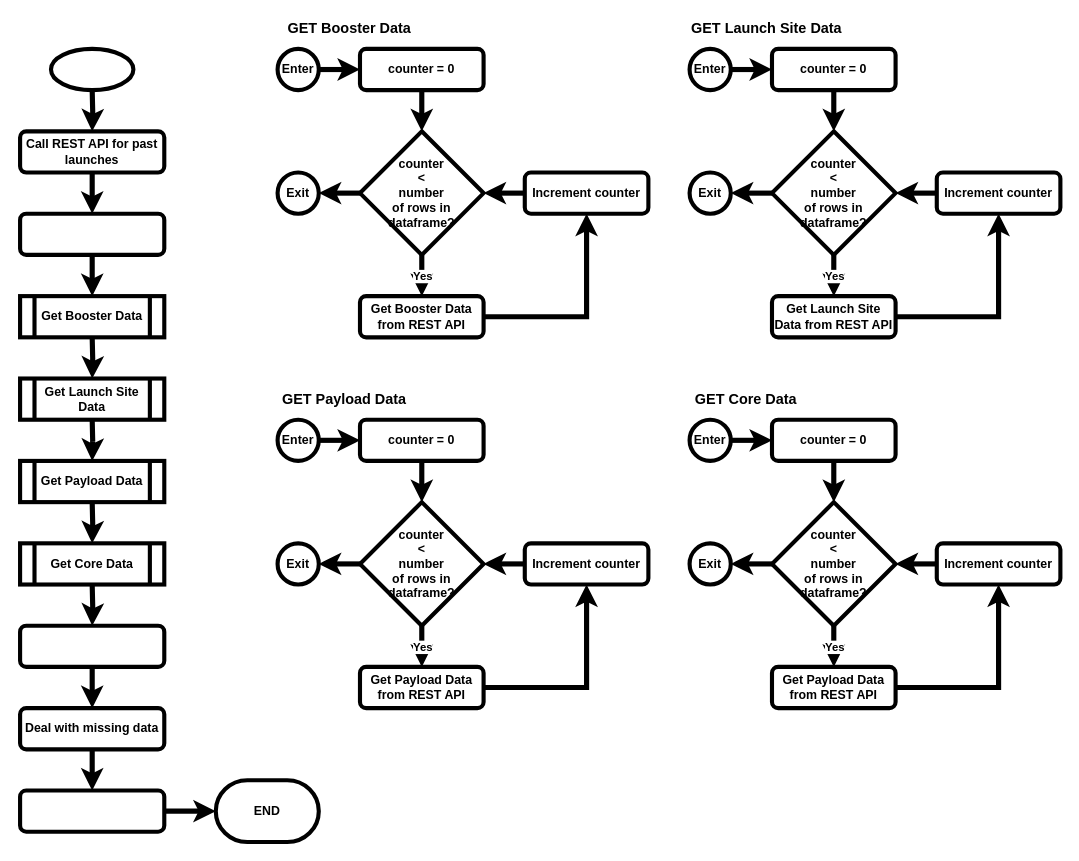
Some shapes in this 1079 by 861 pixel diagram are drawn without their labels. Here are the shapes that lost their labels. From the top down, the box of each, then its label:
(48, 46, 135, 92): START
(18, 211, 166, 256): Normalize JSON into pandas dataframe
(18, 623, 166, 668): Merge all data
(18, 788, 166, 833): Save to CSV
